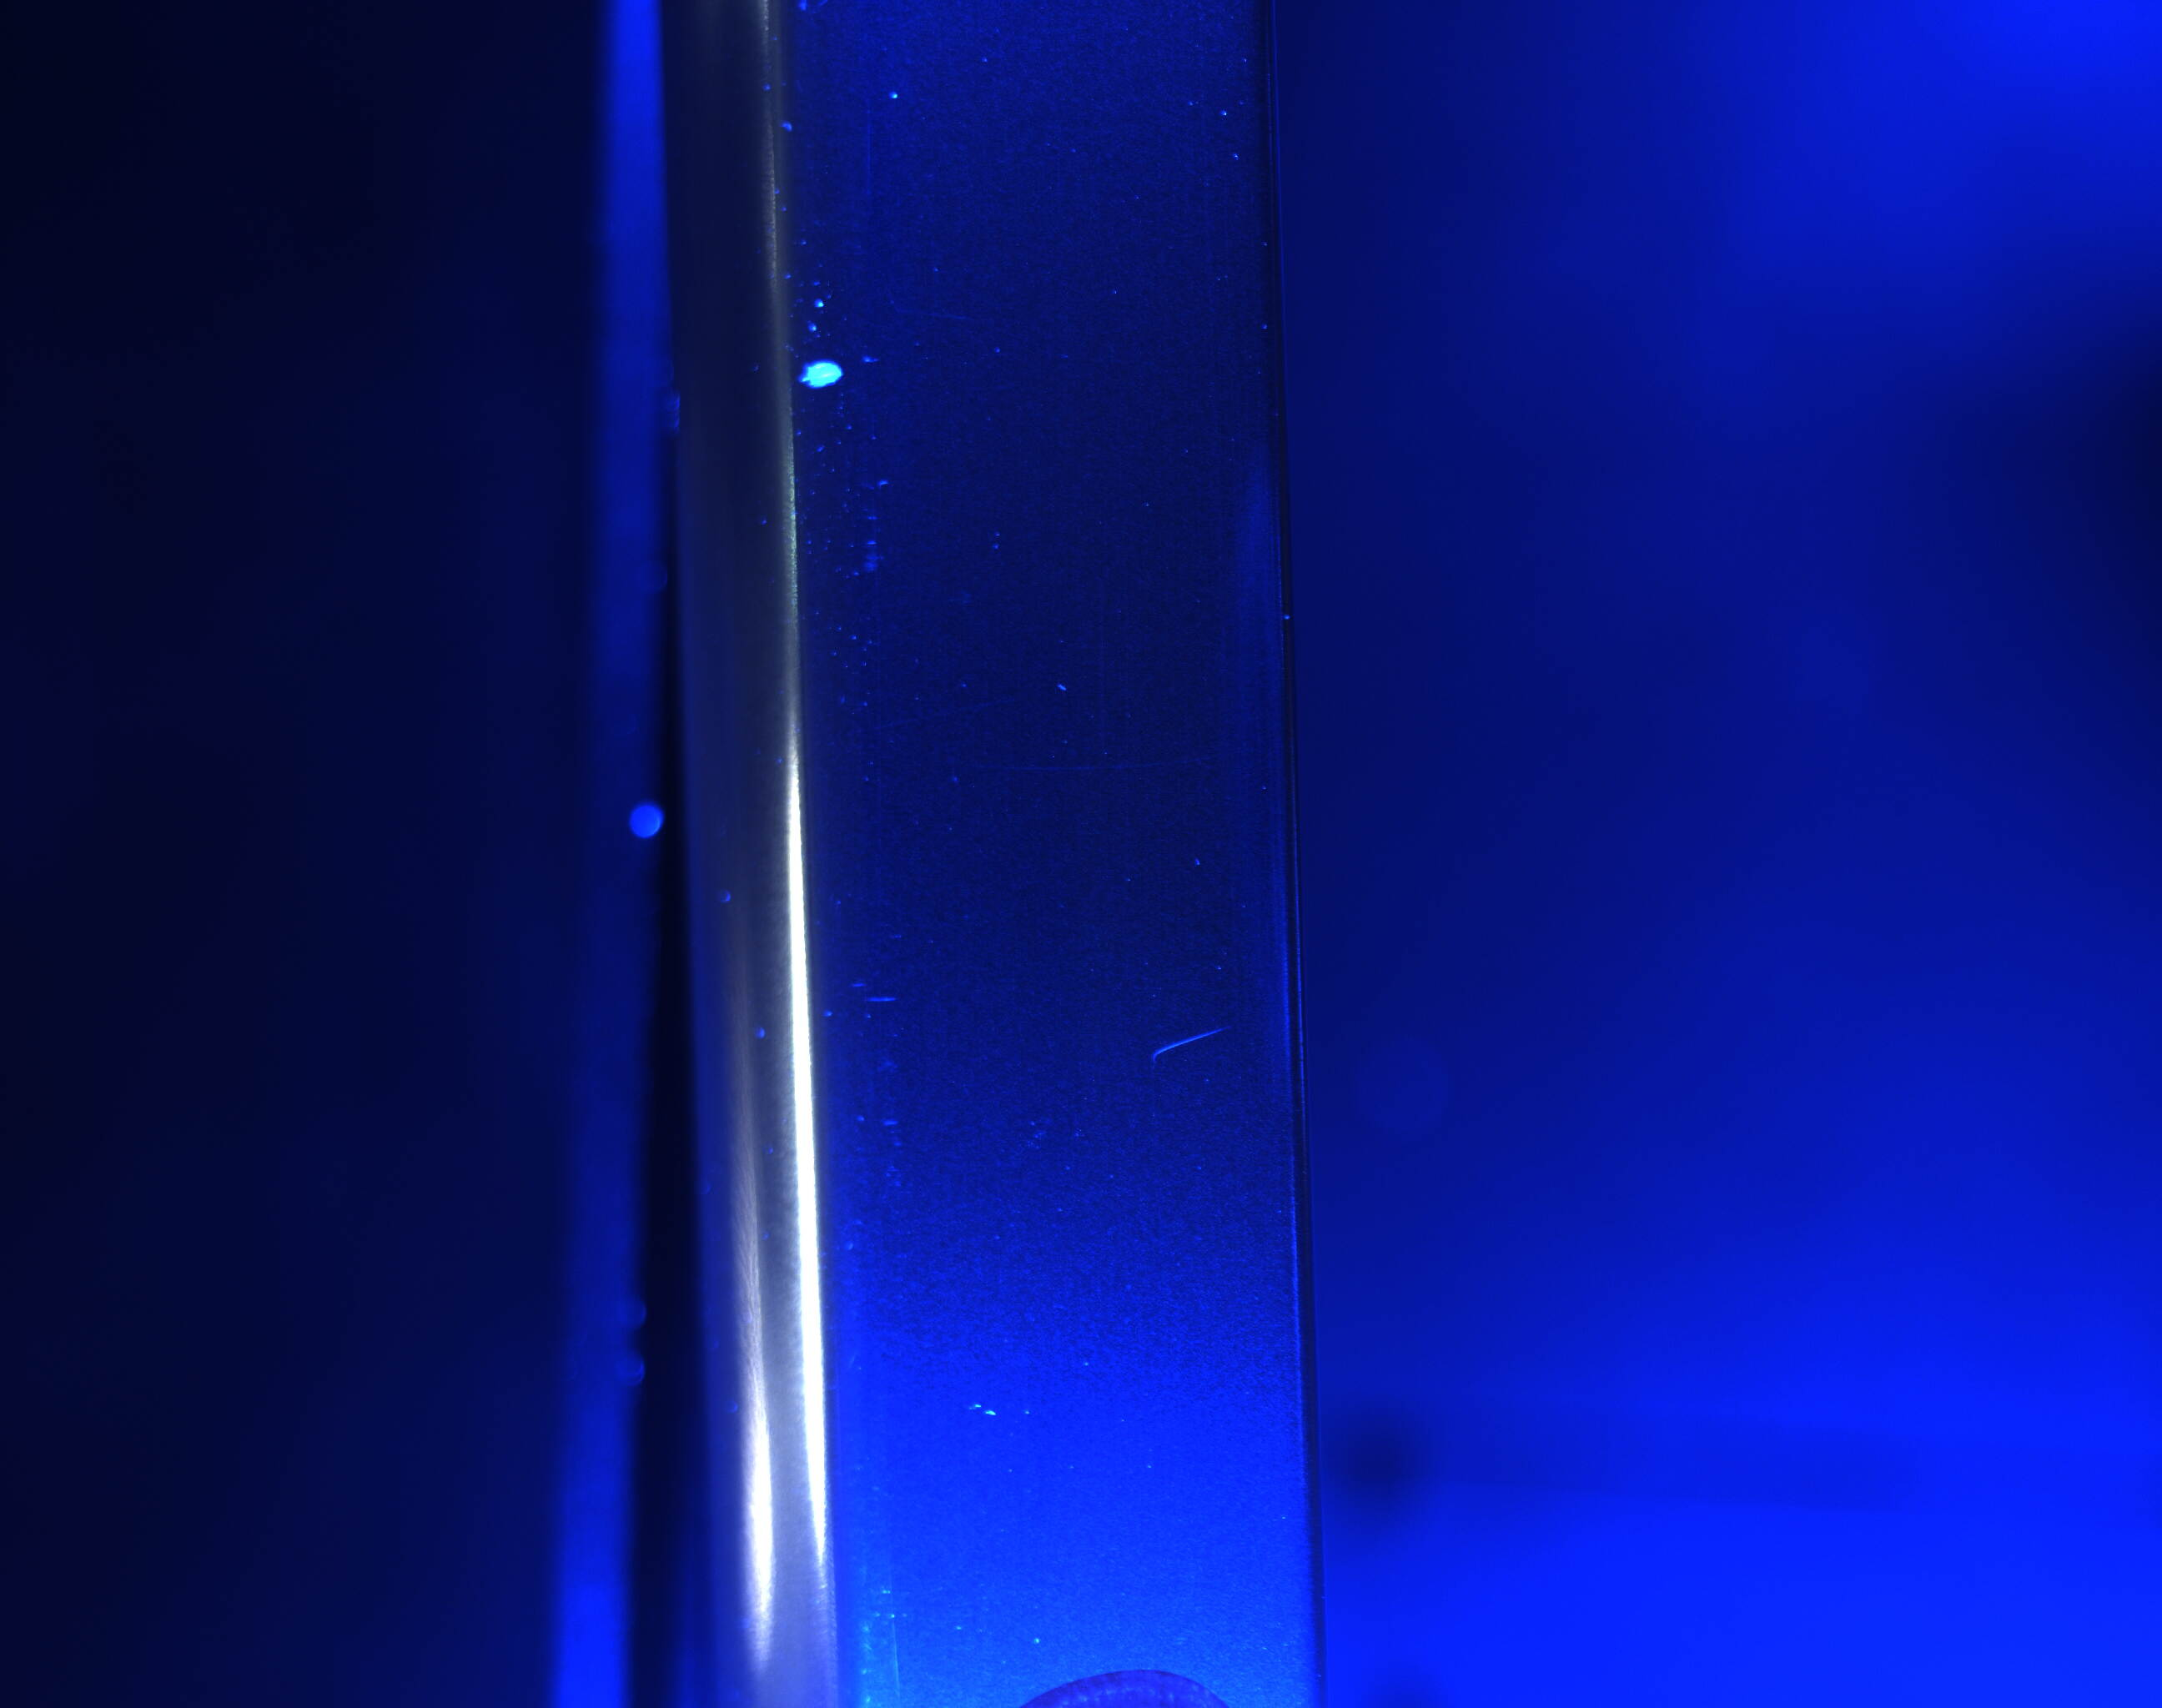NG: (774, 335, 884, 421), (1148, 1015, 1246, 1073)
